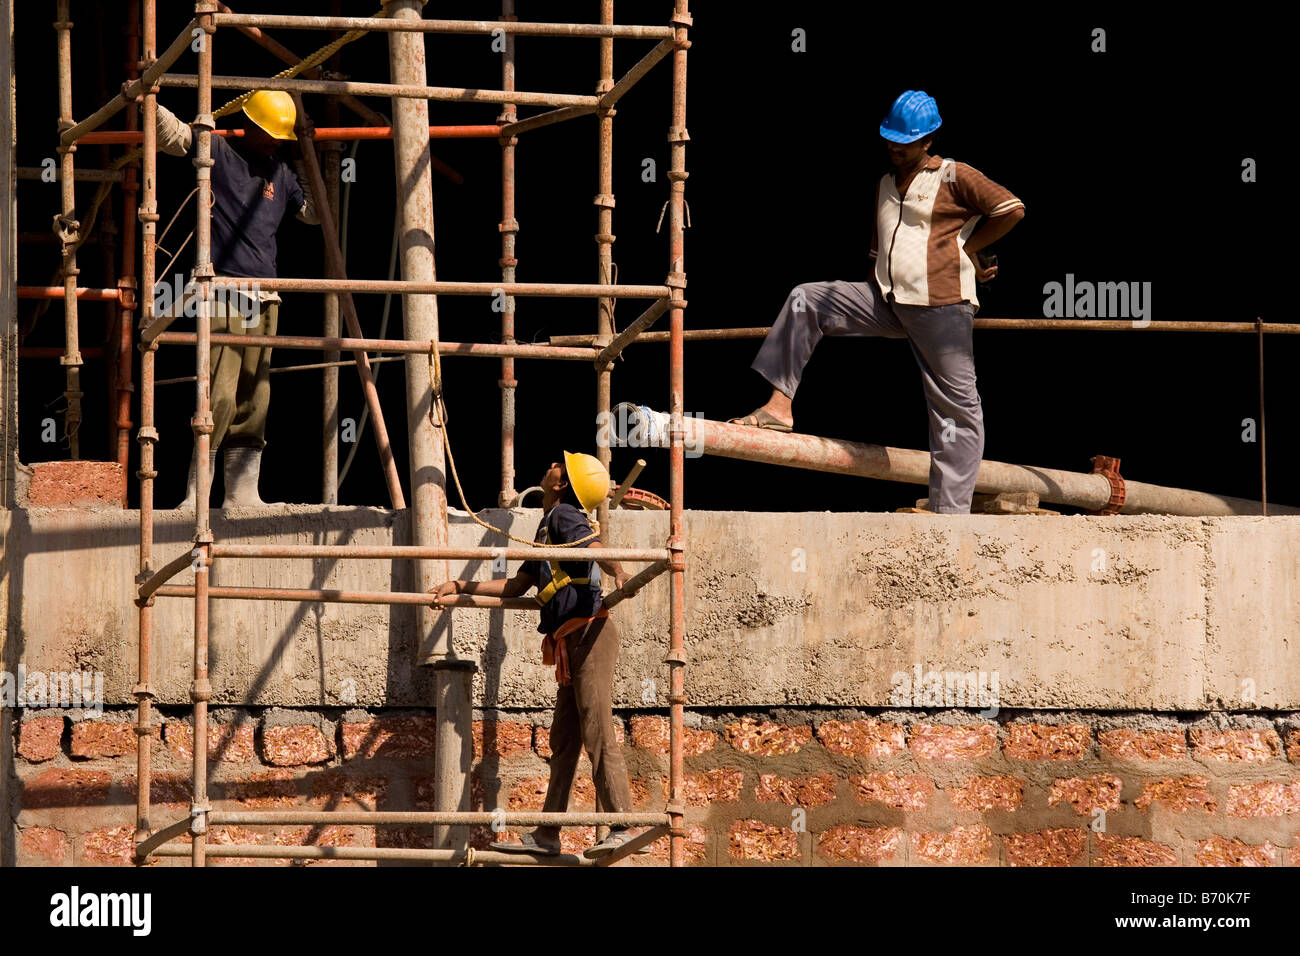safety_helmet: (536, 425, 619, 511), (236, 85, 305, 175), (869, 92, 958, 135)
